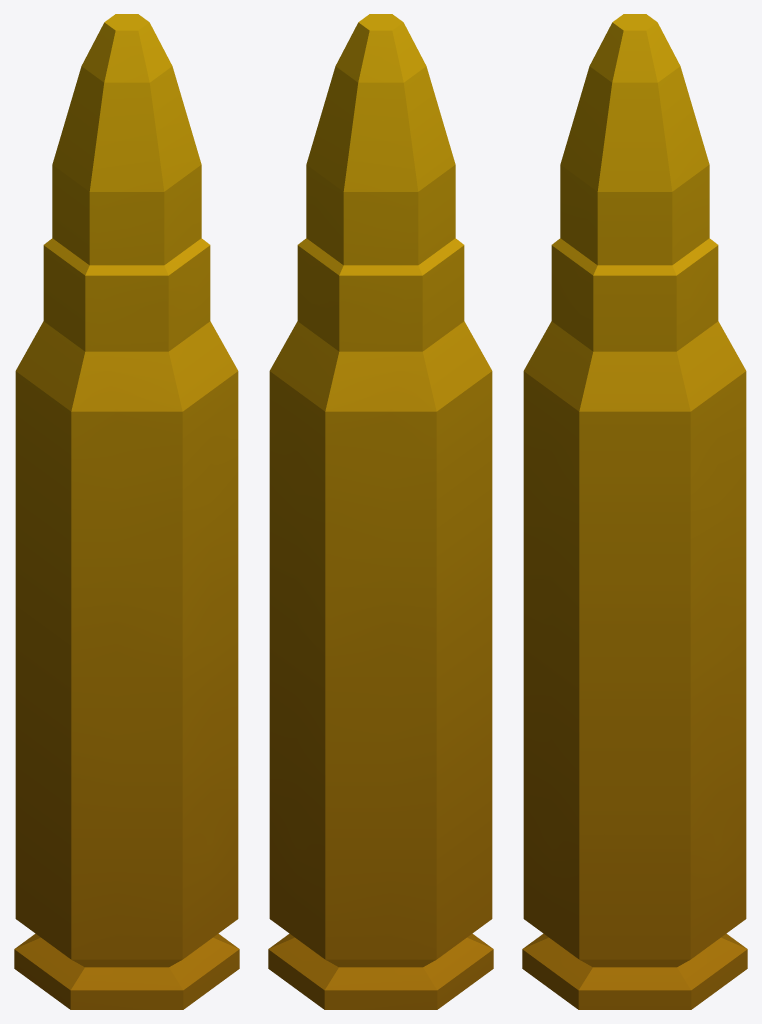
Rendered from Bullet_556_V1.glb.
3 renders of one model, left to right at view 1: azimuth 30°, elevation 25°; view 2: azimuth 150°, elevation 25°; view 3: azimuth 270°, elevation 25°, orthographic.
Visible parts, largest first — view 1: Bullet_556_V1; view 2: Bullet_556_V1; view 3: Bullet_556_V1.
Boxes of the visible parts, box(x1,y1,x2,y2) form: Bullet_556_V1: box(14, 14, 239, 1009); Bullet_556_V1: box(268, 14, 493, 1009); Bullet_556_V1: box(522, 14, 747, 1009).
Bounding box in the file's own units: 0.0107 × 0.057 × 0.0123.
Materials: 1 (1 with a texture image).
